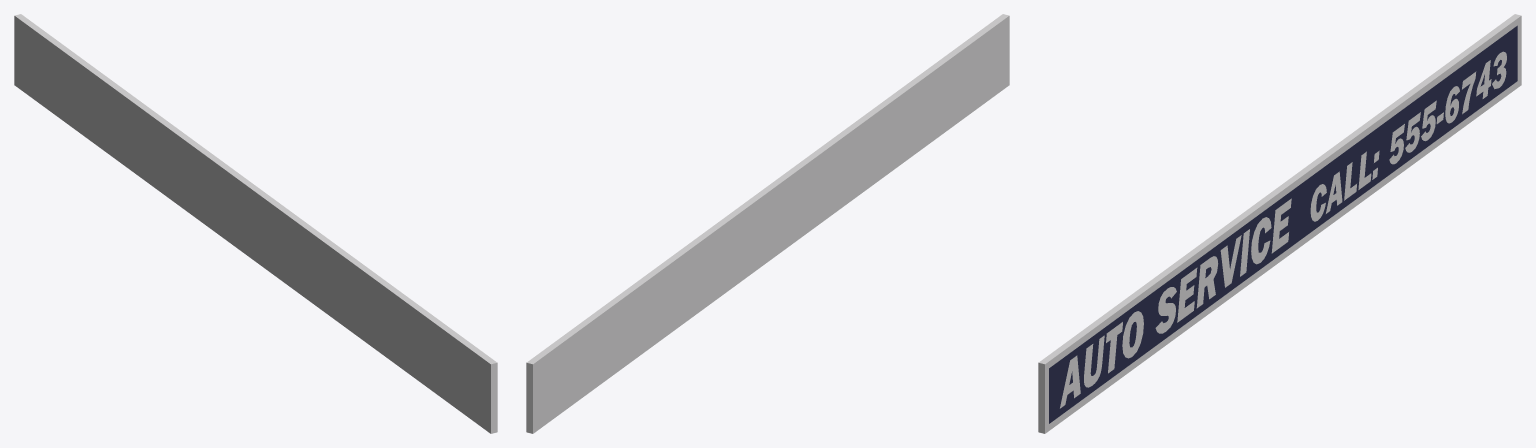
Rendered from SM_billboard_AutoService.gltf.
3 renders of one model, left to right at view 1: azimuth 30°, elevation 25°; view 2: azimuth 150°, elevation 25°; view 3: azimuth 330°, elevation 25°, orthographic.
Visible parts, largest first — view 1: SM_billboard_AutoService; view 2: SM_billboard_AutoService; view 3: SM_billboard_AutoService.
Boxes of the visible parts, x1,y1,x2,y2 form: SM_billboard_AutoService: [14, 14, 497, 433]; SM_billboard_AutoService: [526, 14, 1009, 433]; SM_billboard_AutoService: [1038, 14, 1521, 433].
Bounding box in the file's own units: 0.1013 × 1 × 12.4.
1 material, 1 textured.
